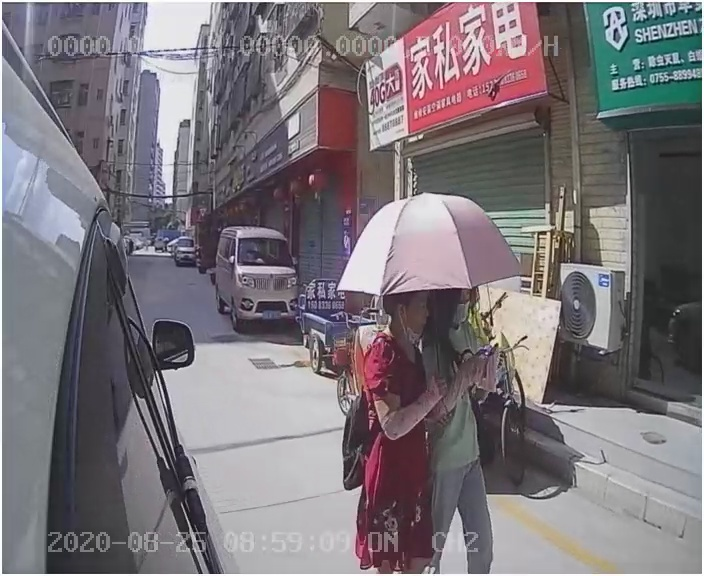person: (328, 287, 459, 537)
